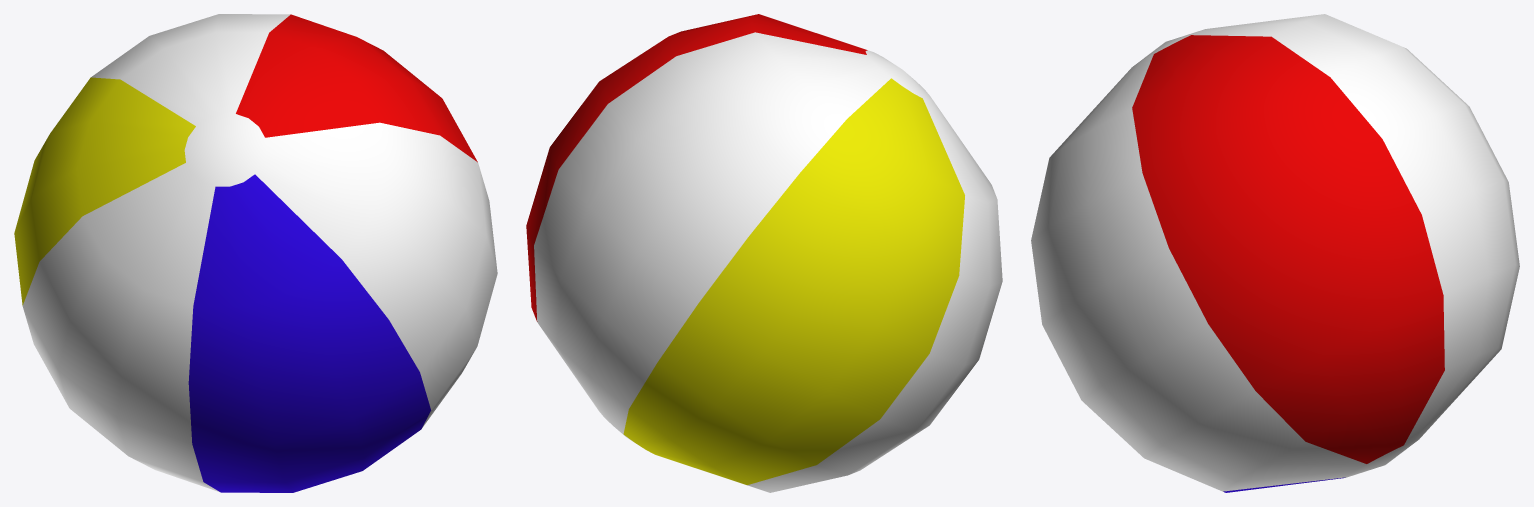
The model's file is beach-ball.gltf.
The picture shows the model from 3 angles, left to right: view 1: azimuth 30°, elevation 25°; view 2: azimuth 150°, elevation 25°; view 3: azimuth 270°, elevation 25°; orthographic projection. The views are drawn at different scales.
Parts seen in each view (by area): view 1: Sphere; view 2: Sphere; view 3: Sphere.
Boxes of the visible parts, box(x1,y1,x2,y2) form: Sphere: box(14, 14, 497, 492); Sphere: box(526, 14, 1002, 492); Sphere: box(1031, 14, 1519, 492).
Size of the model in its own units: 1.97 by 2 by 1.99.
